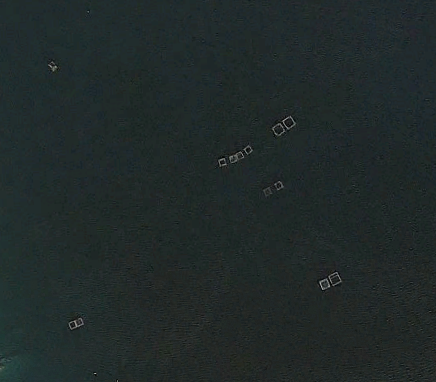square: (280, 112, 300, 133), (270, 121, 289, 138), (326, 269, 344, 286), (260, 181, 274, 197), (226, 153, 240, 167), (63, 318, 78, 331), (273, 178, 285, 192), (317, 278, 329, 290), (241, 143, 253, 154), (221, 160, 233, 171), (73, 318, 84, 330), (233, 150, 245, 160)
